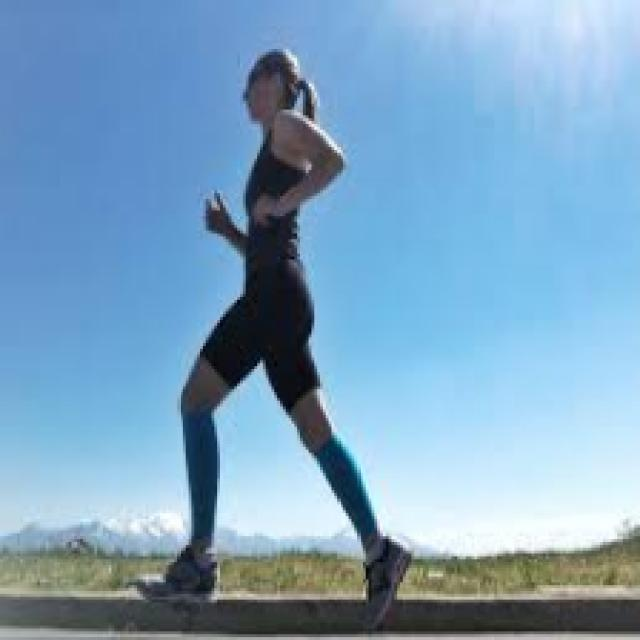running: (140, 46, 408, 634)
